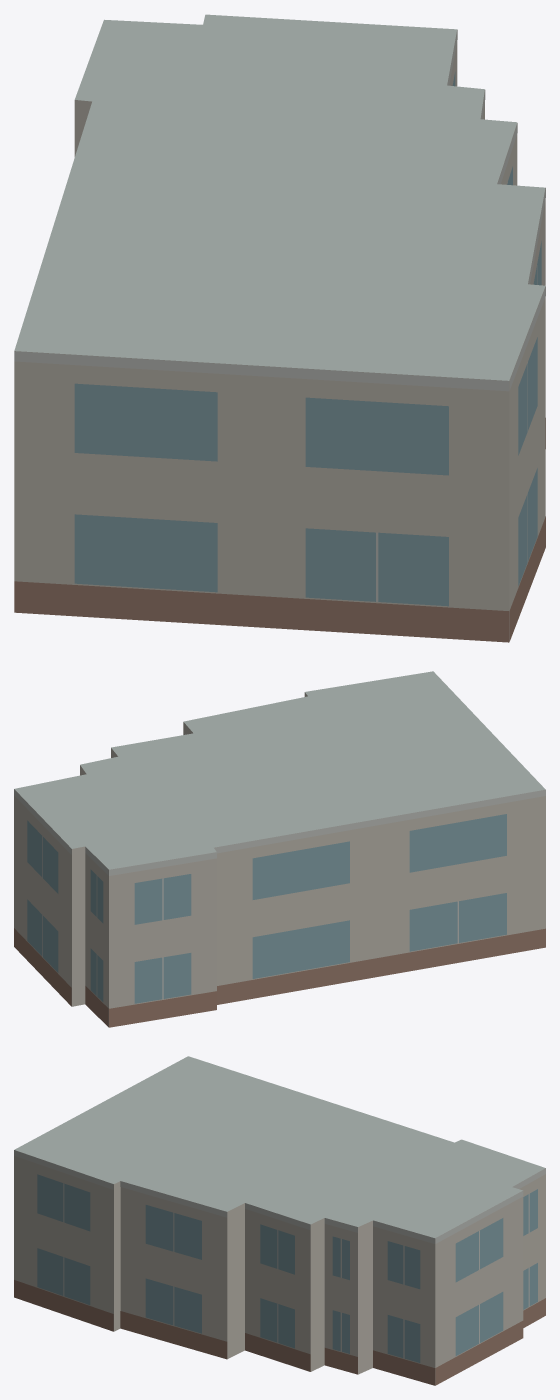
Rendered from survey-upis-32526741.glb.
3 views of the same model, one above another, from view 1: azimuth 30°, elevation 25°; view 2: azimuth 150°, elevation 25°; view 3: azimuth 270°, elevation 25° (orthographic). The views are drawn at different scales.
Visible parts, largest first — view 1: survey-upis-32526741.tmp; view 2: survey-upis-32526741.tmp; view 3: survey-upis-32526741.tmp.
Part boxes in pixels (<box>): survey-upis-32526741.tmp: <box>14,14,545,642</box>; survey-upis-32526741.tmp: <box>14,671,545,1027</box>; survey-upis-32526741.tmp: <box>14,1056,545,1385</box>.
Size of the model in its own units: 16.17 by 6.1 by 19.94.
